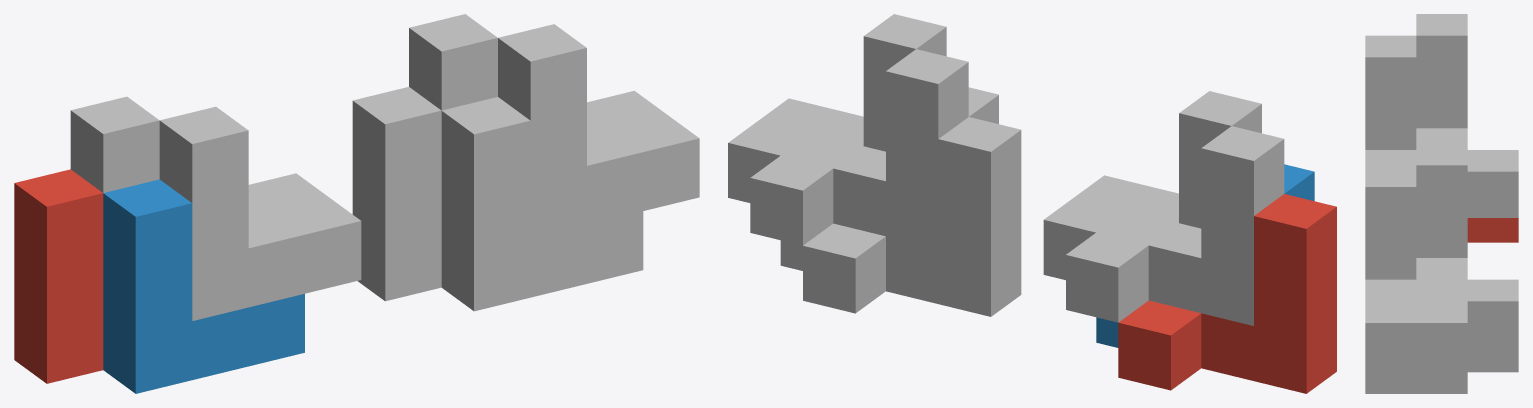
The model's file is tiling.obj.
The picture shows the model from 3 angles, left to right: view 1: azimuth 30°, elevation 25°; view 2: azimuth 150°, elevation 25°; view 3: azimuth 270°, elevation 25°; orthographic projection. The views are drawn at different scales.
Parts seen in each view (by area): view 1: copy_1_domain_4, copy_1_domain_8, copy_1_domain_6, copy_1_domain_2, copy_1_domain_1, copy_1_domain_5, copy_1_domain_3, copy_1_domain_7; view 2: copy_1_domain_5, copy_1_domain_1, copy_1_domain_7, copy_1_domain_3, copy_1_domain_4, copy_1_domain_8, copy_1_domain_2, copy_1_domain_6; view 3: copy_1_domain_8, copy_1_domain_7, copy_1_domain_3, copy_1_domain_4, copy_1_domain_6, copy_1_domain_5, copy_1_domain_1.
Part boxes in pixels (<box>): copy_1_domain_4: <box>159,106,361,320</box>; copy_1_domain_8: <box>498,24,699,238</box>; copy_1_domain_6: <box>441,97,643,311</box>; copy_1_domain_2: <box>103,179,304,393</box>; copy_1_domain_1: <box>14,169,103,383</box>; copy_1_domain_5: <box>352,87,441,301</box>; copy_1_domain_3: <box>70,96,271,216</box>; copy_1_domain_7: <box>409,14,610,133</box>; copy_1_domain_5: <box>803,117,1021,316</box>; copy_1_domain_1: <box>1118,194,1336,393</box>; copy_1_domain_7: <box>750,49,968,248</box>; copy_1_domain_3: <box>1066,126,1284,325</box>; copy_1_domain_4: <box>1043,91,1261,280</box>; copy_1_domain_8: <box>728,14,946,202</box>; copy_1_domain_2: <box>1096,164,1314,347</box>; copy_1_domain_6: <box>780,87,998,270</box>; copy_1_domain_8: <box>1365,165,1467,369</box>; copy_1_domain_7: <box>1416,143,1518,347</box>; copy_1_domain_3: <box>1416,14,1518,217</box>; copy_1_domain_4: <box>1365,35,1416,165</box>; copy_1_domain_6: <box>1365,369,1467,393</box>; copy_1_domain_5: <box>1467,347,1518,372</box>; copy_1_domain_1: <box>1467,218,1518,242</box>.
Size of the model in its own units: 11 by 4 by 3.
